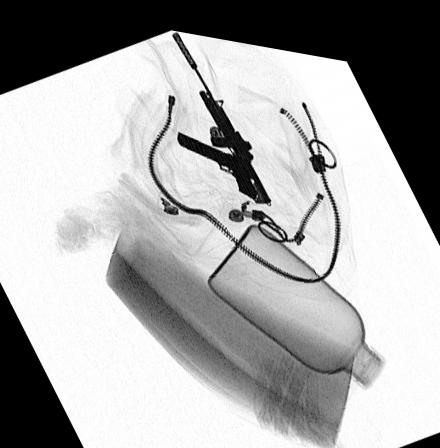Gun: (171, 26, 273, 196), (176, 124, 270, 193)
